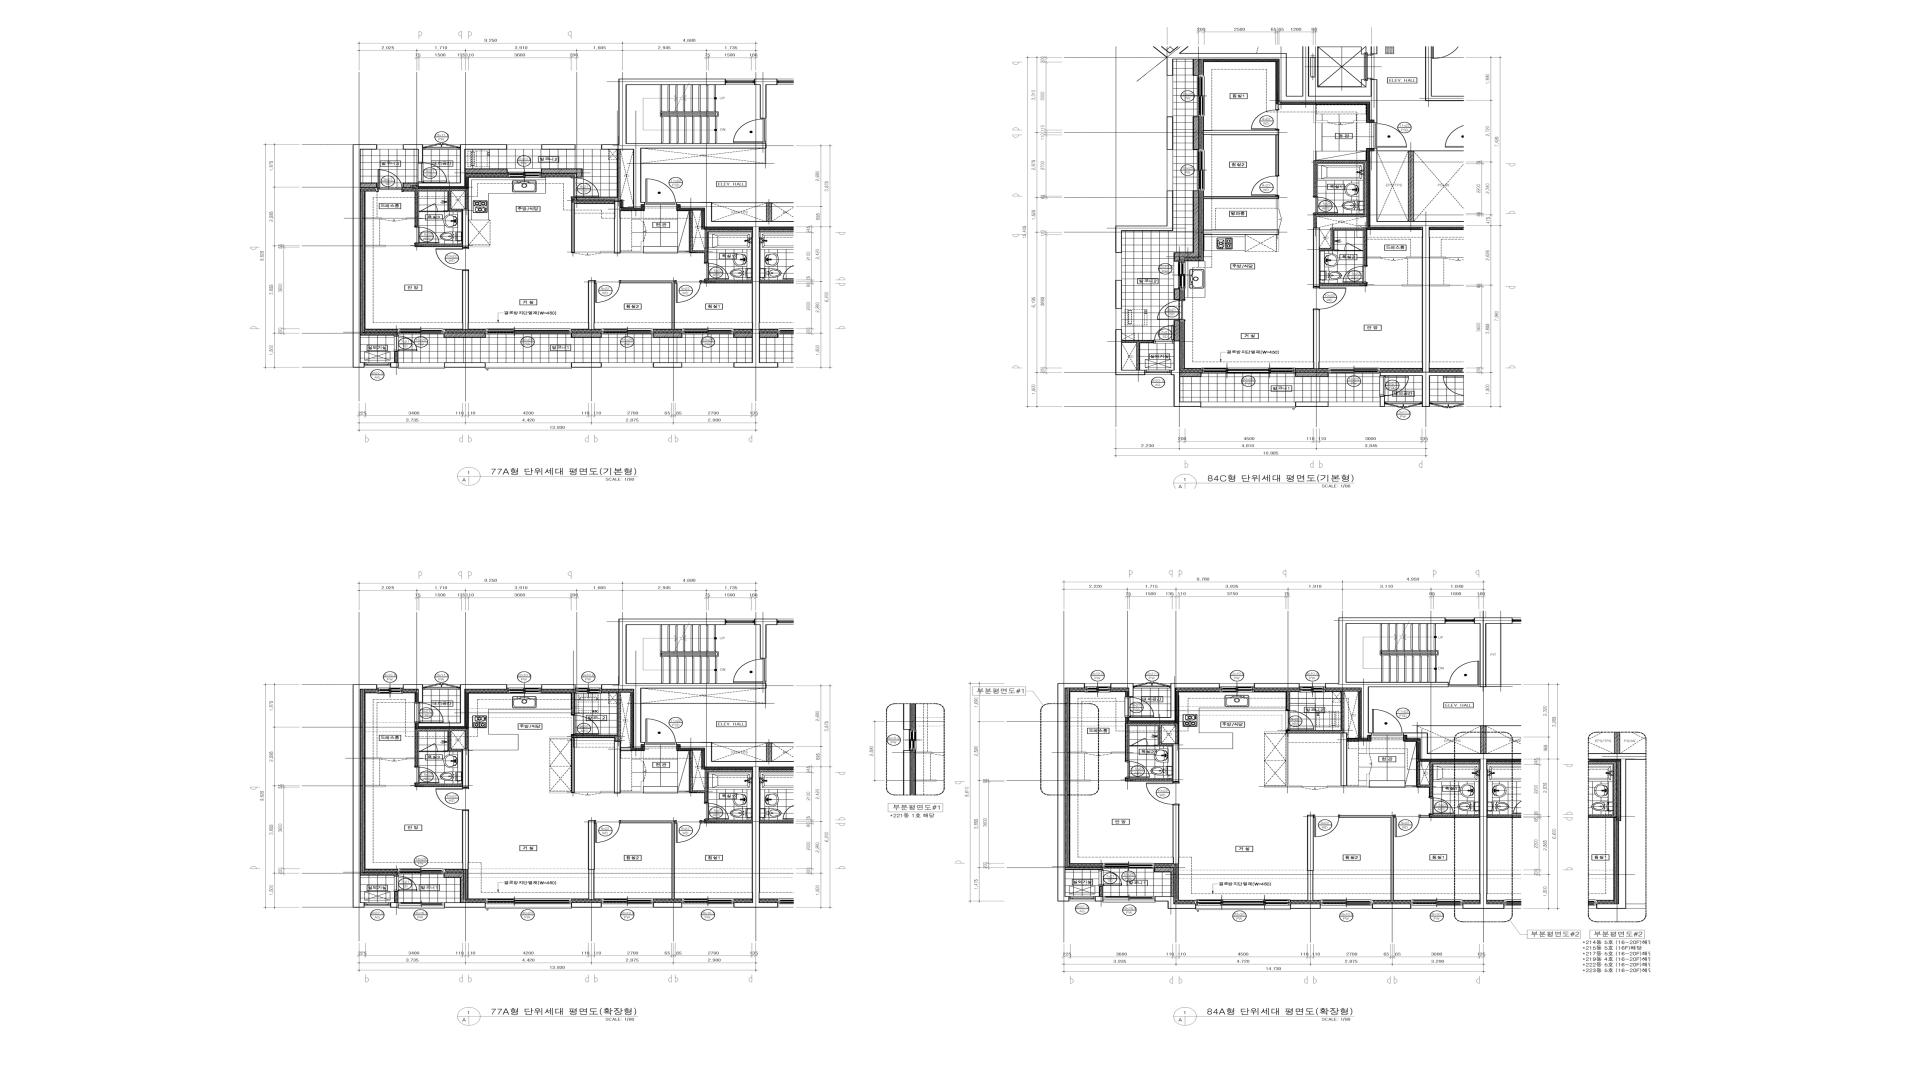door: (645, 718, 676, 745), (1449, 660, 1480, 687), (1374, 123, 1407, 148), (733, 658, 766, 683), (733, 118, 766, 143), (1313, 286, 1347, 310), (1146, 781, 1180, 805), (435, 787, 469, 811), (1372, 709, 1403, 735), (645, 178, 676, 204), (436, 247, 469, 270), (1313, 814, 1340, 837), (1251, 109, 1280, 130), (414, 702, 444, 722), (675, 820, 701, 843), (595, 820, 621, 843), (675, 280, 701, 303), (595, 280, 621, 303), (377, 169, 403, 192), (571, 714, 599, 735), (1380, 376, 1409, 396), (1251, 176, 1280, 196), (1157, 300, 1186, 320), (1125, 697, 1154, 717), (418, 162, 447, 182), (1394, 815, 1420, 837), (1286, 710, 1314, 730), (571, 177, 599, 197), (1343, 265, 1368, 283), (704, 262, 729, 280), (414, 226, 439, 244), (1313, 196, 1338, 213), (414, 766, 439, 783), (1125, 761, 1150, 778), (1429, 797, 1454, 814), (704, 803, 729, 819), (394, 875, 417, 891), (1099, 870, 1122, 886), (394, 335, 417, 351), (1154, 325, 1174, 343), (1385, 401, 1422, 408), (423, 683, 460, 689), (423, 143, 460, 149), (420, 743, 438, 752), (420, 203, 438, 212), (1345, 243, 1362, 251), (1131, 738, 1148, 746), (1381, 257, 1407, 261), (1086, 752, 1112, 756), (1302, 786, 1328, 790), (1277, 209, 1282, 229), (643, 761, 647, 781), (643, 221, 647, 241), (575, 792, 601, 795), (381, 758, 407, 761), (381, 218, 407, 221), (575, 252, 601, 255), (1328, 122, 1353, 125)
wall: (1370, 148, 1464, 407), (601, 618, 767, 748), (601, 78, 766, 208), (676, 742, 794, 907), (1153, 46, 1378, 123), (676, 202, 778, 368), (1325, 617, 1449, 739), (1403, 732, 1487, 909), (1265, 691, 1345, 788), (550, 692, 620, 793), (1057, 683, 1085, 901), (353, 684, 377, 908), (353, 144, 377, 368), (1340, 815, 1394, 901), (621, 820, 675, 899), (418, 684, 507, 727), (418, 144, 507, 187), (1313, 160, 1367, 228), (1115, 191, 1173, 253), (1203, 130, 1279, 176), (1128, 683, 1220, 721), (690, 210, 752, 263), (690, 750, 752, 803), (1421, 764, 1480, 818), (1474, 617, 1513, 687), (621, 280, 675, 330), (1112, 723, 1179, 761), (407, 728, 469, 766), (1328, 732, 1370, 788), (407, 188, 468, 226), (1416, 761, 1480, 797), (576, 149, 620, 201), (1425, 46, 1464, 101), (641, 688, 766, 704), (641, 148, 766, 164), (1171, 341, 1201, 407), (1174, 190, 1199, 261), (1203, 229, 1279, 252), (1320, 228, 1367, 265), (1125, 746, 1173, 781), (1320, 251, 1367, 286), (601, 741, 631, 793), (1115, 329, 1145, 375), (601, 201, 621, 253), (1486, 623, 1502, 687), (1203, 196, 1279, 209), (754, 618, 778, 658), (1122, 340, 1154, 370), (754, 78, 777, 118), (1417, 725, 1522, 732), (1307, 815, 1314, 901), (1154, 867, 1174, 896), (444, 873, 464, 902), (588, 820, 595, 899), (1155, 896, 1196, 909), (1408, 151, 1414, 221), (1313, 310, 1320, 369), (462, 271, 469, 330), (462, 811, 469, 869), (1313, 228, 1320, 286), (542, 168, 583, 177), (403, 684, 423, 702), (403, 144, 423, 162), (1173, 805, 1179, 864), (588, 280, 595, 330), (1111, 683, 1134, 697), (621, 241, 644, 253), (621, 781, 644, 793), (462, 749, 469, 787), (462, 209, 469, 247), (465, 168, 507, 174), (444, 902, 486, 908), (1314, 105, 1328, 123), (445, 362, 485, 368), (1173, 743, 1179, 782), (1254, 683, 1300, 688), (571, 197, 575, 253), (444, 333, 486, 338), (1193, 116, 1199, 150), (701, 819, 752, 823), (1115, 280, 1122, 308), (1372, 904, 1411, 909), (1167, 117, 1173, 149), (414, 783, 462, 787), (571, 902, 602, 908), (572, 362, 602, 368), (541, 144, 576, 149), (653, 362, 682, 368), (653, 902, 682, 908), (541, 684, 575, 689), (1295, 372, 1329, 377), (1296, 402, 1329, 407), (1481, 726, 1487, 753), (571, 333, 602, 338), (701, 280, 752, 283), (1291, 904, 1321, 909), (653, 333, 682, 338), (415, 244, 462, 247), (1174, 320, 1180, 341), (1065, 867, 1103, 870), (1180, 372, 1202, 377), (766, 743, 772, 761), (360, 182, 377, 188), (1193, 59, 1199, 75), (733, 333, 752, 338), (403, 182, 418, 188), (571, 692, 575, 714), (1378, 150, 1464, 151), (712, 742, 794, 743), (1286, 691, 1290, 711), (360, 873, 398, 875), (360, 333, 398, 335), (1174, 288, 1180, 300), (1380, 396, 1385, 407), (390, 902, 399, 908), (394, 891, 398, 902), (394, 351, 398, 362), (390, 362, 398, 367), (365, 785, 385, 787), (1099, 886, 1103, 896), (1070, 779, 1090, 781), (1095, 896, 1103, 901), (1402, 284, 1422, 286), (365, 245, 385, 247), (1367, 741, 1370, 754), (1353, 120, 1366, 123), (365, 757, 381, 759), (1070, 751, 1086, 753), (365, 217, 381, 219), (641, 211, 644, 221), (641, 751, 644, 761), (1407, 256, 1422, 258), (1367, 256, 1381, 258), (1276, 104, 1279, 109), (419, 211, 420, 212)
window: (1196, 899, 1291, 910), (485, 362, 572, 369), (1201, 402, 1296, 408), (1202, 368, 1295, 374), (486, 898, 571, 904), (486, 328, 571, 334), (682, 898, 734, 907), (1411, 899, 1463, 908), (602, 898, 653, 907), (1321, 899, 1372, 908), (485, 904, 572, 909), (507, 168, 542, 178), (398, 362, 445, 369), (1197, 149, 1205, 190), (1197, 75, 1205, 116), (1174, 261, 1186, 288), (1103, 896, 1155, 902), (1220, 683, 1254, 692), (1329, 368, 1380, 374), (507, 684, 541, 693), (1103, 863, 1154, 869), (682, 328, 733, 334), (602, 328, 653, 334), (398, 868, 444, 874), (398, 328, 444, 334), (1328, 402, 1380, 407), (682, 362, 734, 367), (1167, 149, 1173, 191), (1167, 75, 1173, 117), (1299, 683, 1326, 692), (1085, 683, 1111, 692), (377, 684, 403, 693), (575, 684, 601, 693), (1133, 682, 1171, 688), (602, 363, 653, 367), (398, 905, 444, 909), (726, 619, 755, 625), (507, 144, 541, 149), (1446, 617, 1474, 623), (726, 79, 754, 85), (1116, 253, 1122, 280), (398, 902, 444, 905), (1145, 370, 1171, 375), (1069, 896, 1095, 901), (364, 902, 390, 907), (364, 362, 390, 367), (377, 144, 403, 149), (576, 144, 601, 149), (1116, 309, 1122, 329)
